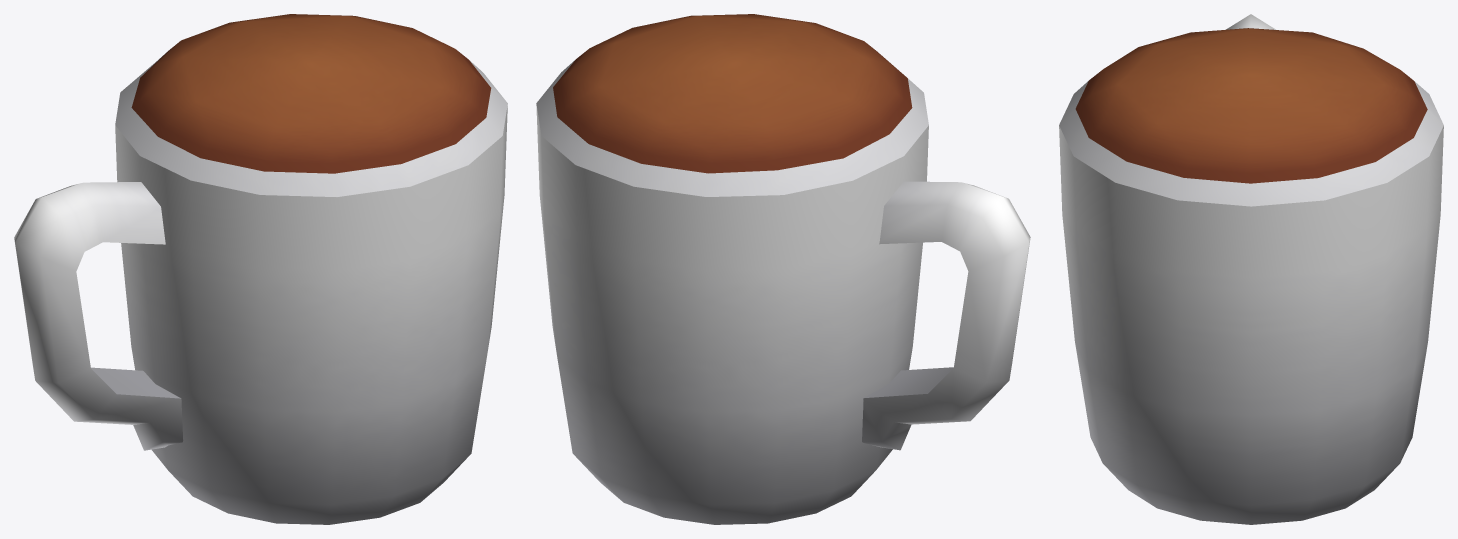
The model's file is m_Mug01_Choco01.fbx.
3 views of the same model, side by side, from view 1: azimuth 30°, elevation 25°; view 2: azimuth 150°, elevation 25°; view 3: azimuth 270°, elevation 25° (orthographic). The views are drawn at different scales.
Parts seen in each view (by area): view 1: m_Mug01_Choco01; view 2: m_Mug01_Choco01; view 3: m_Mug01_Choco01.
Boxes of the visible parts, left/top/right/bottom form: m_Mug01_Choco01: left=14, top=14, right=507, bottom=524; m_Mug01_Choco01: left=536, top=14, right=1030, bottom=524; m_Mug01_Choco01: left=1059, top=14, right=1443, bottom=524.
Bounding box in the file's own units: 15.22 × 12.58 × 11.16.
